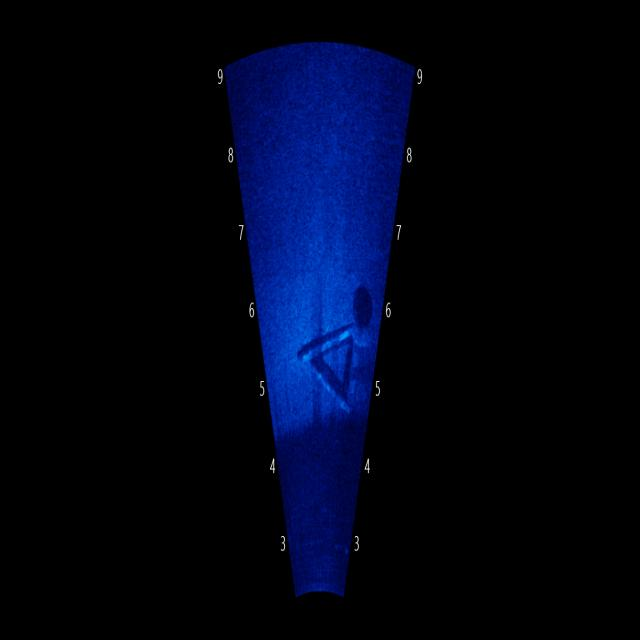triangle: (289, 268, 371, 440)
